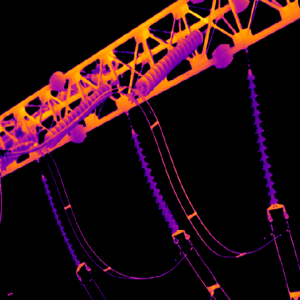insulator: (129, 127, 178, 232), (134, 26, 204, 93), (245, 67, 278, 205), (43, 81, 112, 147), (41, 173, 79, 266)
